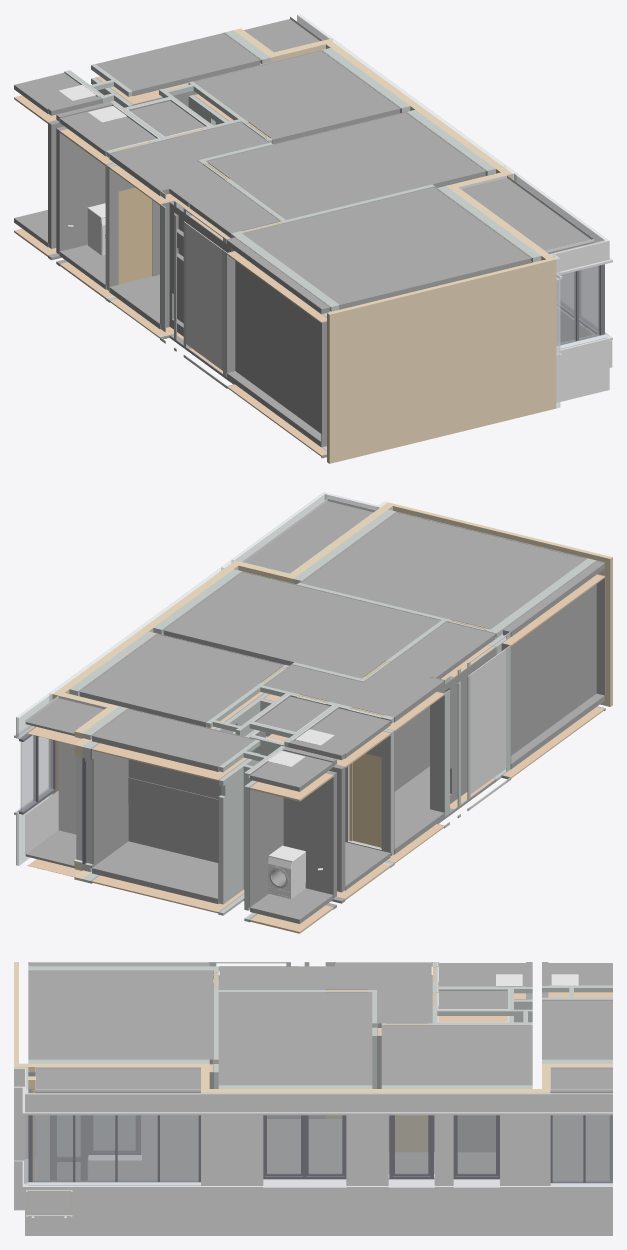
File: 3dExport.glb
3 renders of one model, top to bottom at view 1: azimuth 30°, elevation 25°; view 2: azimuth 150°, elevation 25°; view 3: azimuth 270°, elevation 25°, orthographic. The views are drawn at different scales.
Visible parts, largest first — view 1: MD_??_??? ?3.1_??????? ???? ???? ???????_120 (×4), MD_??_?1_????? ??????? ?????????_180 (×6), MD_??_??? ?3.3_??????? ???? ???? ????? ????? ??_120 (×4), MD_??_??1.1_??? 20 ?? ???????_20 (×4), MD_??_??? ?3.2_??????? ???? ?? ????? ??_100 (×5), MD_??_??? ?4.1_??????_50 (×2), MD_??_F7.1.1_??? ??????_70 (×3), MD_??_??2.1_??? 20 ??? 15 ???????_35, MD_??_??2.2_??? ??? 15 ?????_15, ADSK_C??????????_25 ?? (×3), MD_??_??? ?1_???_25,9?? (×4), ?2.1?_800?2100(h)_???? 475-2016 ? (+7 smaller); view 2: MD_??_??? ?3.1_??????? ???? ???? ???????_120 (×4), MD_??_??? ?3.3_??????? ???? ???? ????? ????? ??_120 (×5), MD_??_??1.1_??? 20 ?? ???????_20 (×3), MD_??_??2.1_??? 20 ??? 15 ???????_35 (×3), MD_??_??? ?3.2_??????? ???? ?? ????? ??_100 (×5), MD_??_??? ?4.1_??????_50 (×3), MD_??_??1.2_??? 20 ?? ????_20 (×2), MD_??_??? ?1_???_25,9?? (×6), MD_??_??1_???_100 (×5), MD_??_?1_????? ??????? ?????????_180 (×4), MD_??_??2.2_??? ??? 15 ?????_15, MD_??_??1.3_??? 30 ?? ???????_30 (+16 smaller); view 3: MD_??_??? ?3.1_??????? ???? ???? ???????_120 (×5), MD_?_F1_??? ??????? (×2), MD_??_??? ?3.3_??????? ???? ???? ????? ????? ??_120 (×4), ADSK_C??????????_25 ?? (×6), MD_??_F7.1.1_??? ??????_70 (×2), MD_?_F4.1_??? ???_5 (×3), ??6.1_1800?1700(h)_????? ???????, MD_??_??? ?4.1_??????_50 (×2), ??4_1150?1650(h)/850?2400(h)??, MD_??_??? ?3.2_??????? ???? ?? ????? ??_100 (×3), MD_??_F7.1_??? ??????_70 (×2), ??1.2_1000?1700(h)_???? ?????_????? ???? (+15 smaller).
Part boxes in pixels (box(x1,y1,x2,y2)): MD_??_??? ?3.1_??????? ???? ???? ???????_120 (×4): box(207, 112, 530, 447); MD_??_?1_????? ??????? ?????????_180 (×6): box(322, 39, 556, 463); MD_??_??? ?3.3_??????? ???? ???? ????? ????? ??_120 (×4): box(97, 33, 399, 329); MD_??_??1.1_??? 20 ?? ???????_20 (×4): box(109, 165, 326, 433); MD_??_??? ?3.2_??????? ???? ?? ????? ??_100 (×5): box(14, 72, 205, 289); MD_??_??? ?4.1_??????_50 (×2): box(244, 19, 594, 253); MD_??_F7.1.1_??? ??????_70 (×3): box(514, 173, 609, 402); MD_??_??2.1_??? 20 ??? 15 ???????_35: box(186, 223, 222, 369); MD_??_??2.2_??? ??? 15 ?????_15: box(59, 128, 105, 251); ADSK_C??????????_25 ?? (×3): box(557, 266, 599, 344); MD_??_??? ?1_???_25,9?? (×4): box(109, 165, 326, 456); ?2.1?_800?2100(h)_???? 475-2016 ?: box(118, 187, 152, 284); MD_??_??? ?3.1_??????? ???? ???? ???????_120 (×4): box(163, 512, 604, 769); MD_??_??? ?3.3_??????? ???? ???? ????? ????? ??_120 (×5): box(79, 622, 495, 903); MD_??_??1.1_??? 20 ?? ???????_20 (×3): box(394, 584, 596, 812); MD_??_??2.1_??? 20 ??? 15 ???????_35 (×3): box(248, 648, 506, 907); MD_??_??? ?3.2_??????? ???? ?? ????? ??_100 (×5): box(250, 696, 390, 923); MD_??_??? ?4.1_??????_50 (×3): box(25, 501, 373, 868); MD_??_??1.2_??? 20 ?? ????_20 (×2): box(128, 646, 496, 862); MD_??_??? ?1_???_25,9?? (×6): box(92, 574, 604, 913); MD_??_??1_???_100 (×5): box(206, 665, 393, 910); MD_??_?1_????? ??????? ?????????_180 (×4): box(52, 504, 612, 699); MD_??_??2.2_??? ??? 15 ?????_15: box(283, 773, 333, 894); MD_??_??1.3_??? 30 ?? ???????_30: box(90, 743, 128, 867); MD_??_??? ?3.1_??????? ???? ???? ???????_120 (×5): box(29, 962, 371, 1179); MD_?_F1_??? ??????? (×2): box(221, 1092, 550, 1235); MD_??_??? ?3.3_??????? ???? ???? ????? ????? ??_120 (×4): box(219, 962, 612, 1173); ADSK_C??????????_25 ?? (×6): box(32, 1115, 612, 1181); MD_??_F7.1.1_??? ??????_70 (×2): box(25, 1093, 200, 1235); MD_?_F4.1_??? ???_5 (×3): box(36, 1067, 608, 1180); ??6.1_1800?1700(h)_????? ???????: box(263, 1115, 346, 1178); MD_??_??? ?4.1_??????_50 (×2): box(35, 1069, 612, 1093); ??4_1150?1650(h)/850?2400(h)??: box(49, 1115, 141, 1180); MD_??_??? ?3.2_??????? ???? ?? ????? ??_100 (×3): box(439, 963, 612, 1008); MD_??_F7.1_??? ??????_70 (×2): box(550, 1093, 612, 1235); ??1.2_1000?1700(h)_???? ?????_????? ????: box(453, 1115, 499, 1178).
Bounding box in the file's own units: 6.81 × 3.36 × 12.88.
